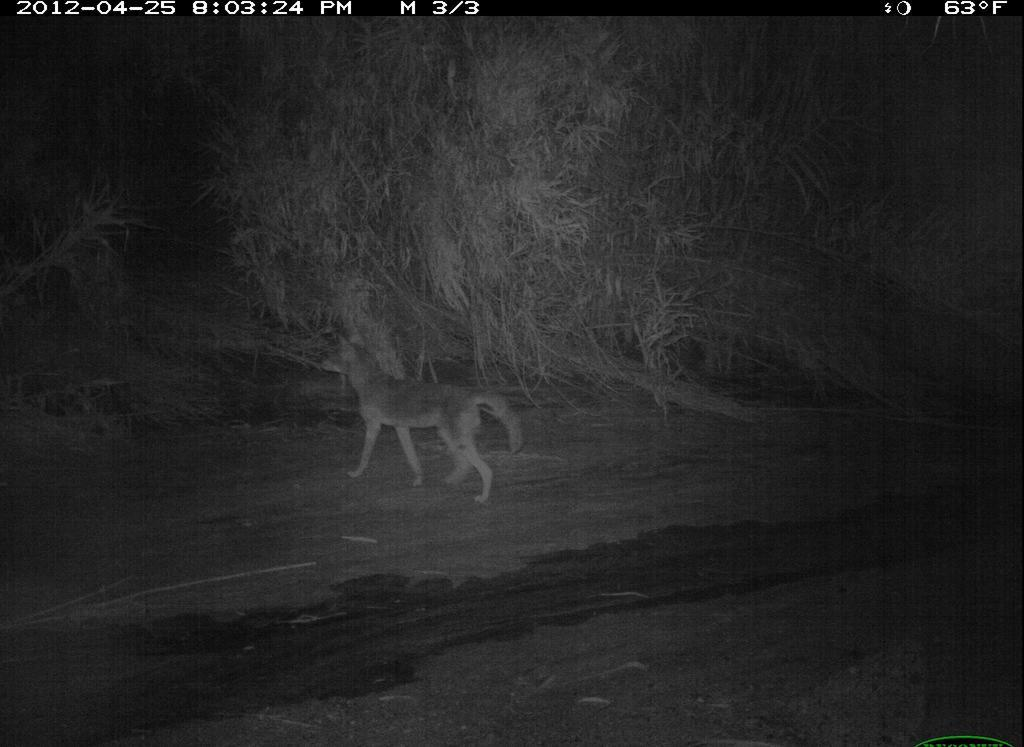coyote: (315, 323, 530, 507)
